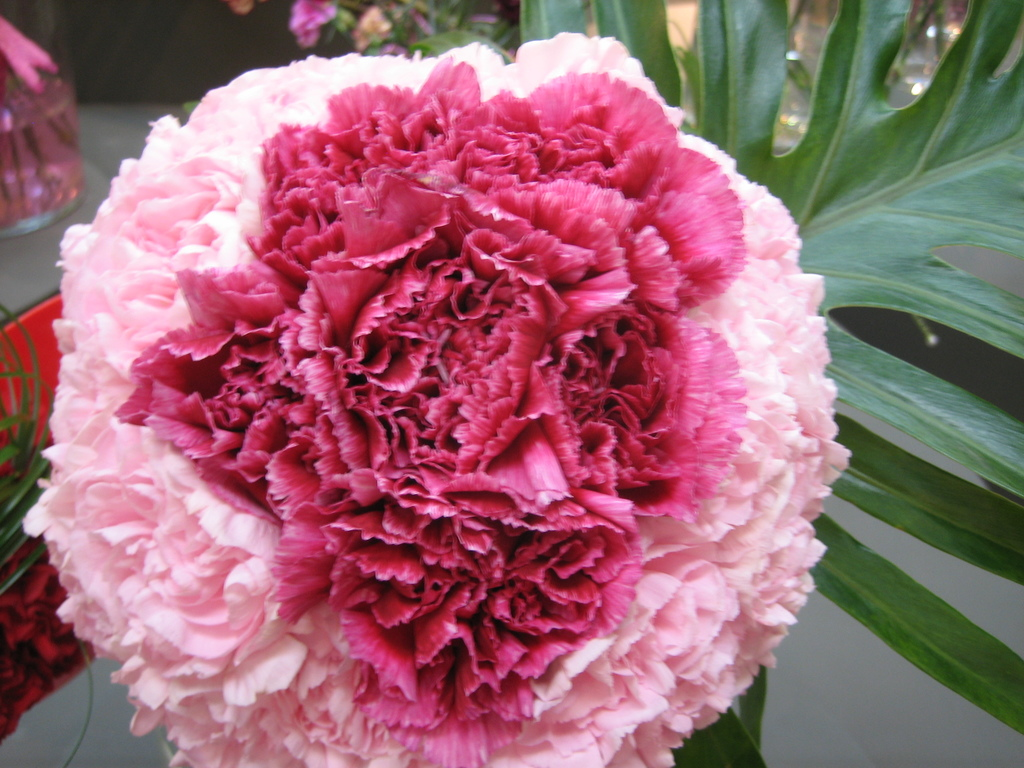person: (0, 5, 86, 239)
